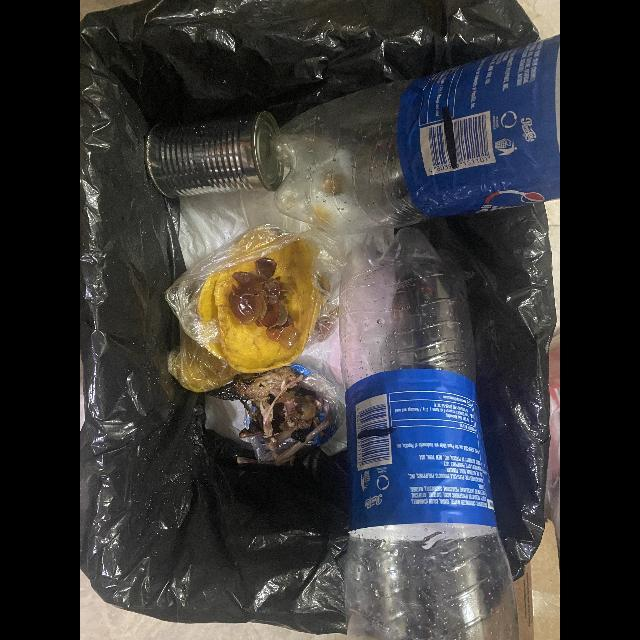biowaste: (198, 227, 320, 375), (220, 367, 337, 470), (229, 258, 300, 346)
metal: (145, 111, 283, 199)
plastic: (339, 228, 519, 640), (273, 34, 560, 237), (164, 225, 340, 393)
